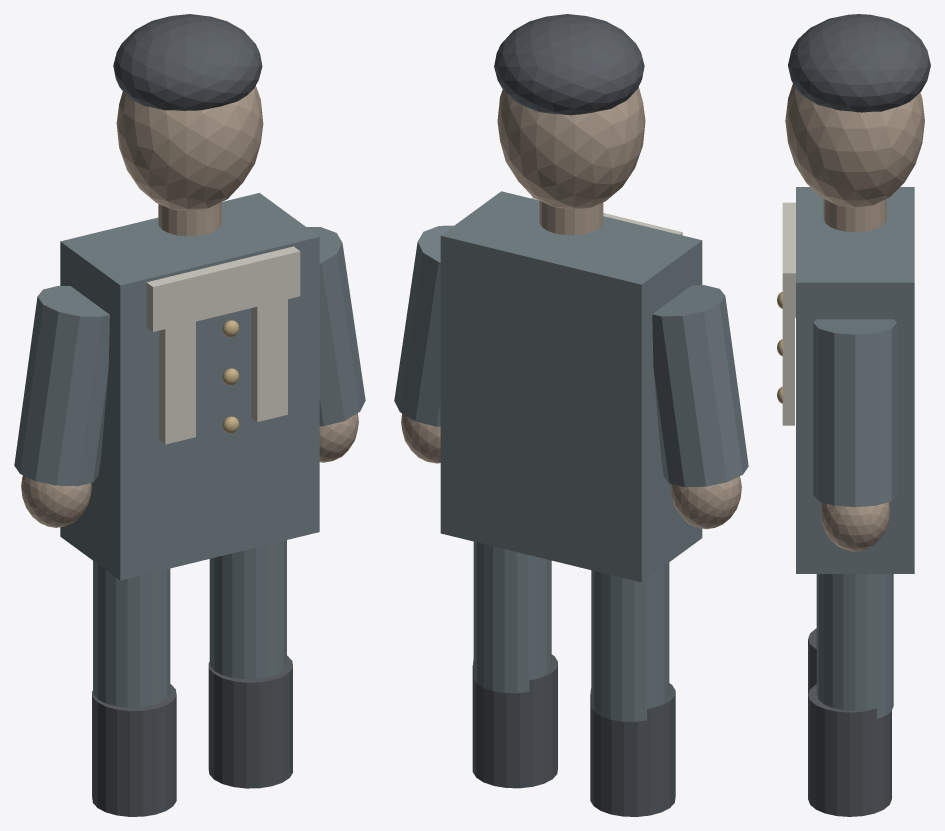
Rendered from medical-officer.glb.
The picture shows the model from 3 angles, left to right: view 1: azimuth 30°, elevation 25°; view 2: azimuth 150°, elevation 25°; view 3: azimuth 270°, elevation 25°; orthographic projection. The views are drawn at different scales.
Visible parts, largest first — view 1: torso, sleeve--0.36, head, hair, trouser--0.19, trouser-0.19, boot--0.19, boot-0.19, coat-collar, sleeve-0.36, coat-lapel, coat-lapel-left (+3 smaller); view 2: torso, sleeve--0.36, head, hair, trouser--0.19, trouser-0.19, boot--0.19, boot-0.19, sleeve-0.36, hand--0.36, neck, hand-0.36; view 3: torso, sleeve-0.36, head, hair, trouser-0.19, boot-0.19, hand-0.36, coat-collar, neck, coat-lapel, boot--0.19.
Part boxes in pixels (x1,y1,x2,y2): torso: [60, 193, 319, 580]; sleeve--0.36: [14, 286, 109, 486]; head: [116, 85, 263, 210]; hair: [113, 14, 262, 110]; trouser--0.19: [93, 561, 170, 707]; trouser-0.19: [209, 540, 286, 679]; boot--0.19: [92, 684, 176, 816]; boot-0.19: [208, 655, 292, 788]; coat-collar: [146, 246, 300, 331]; sleeve-0.36: [306, 227, 365, 426]; coat-lapel: [251, 293, 287, 421]; coat-lapel-left: [159, 315, 195, 444]; torso: [440, 191, 702, 582]; sleeve--0.36: [652, 285, 748, 487]; head: [497, 87, 645, 209]; hair: [494, 14, 644, 115]; trouser--0.19: [591, 562, 669, 721]; trouser-0.19: [473, 541, 551, 693]; boot--0.19: [590, 683, 675, 816]; boot-0.19: [472, 654, 557, 788]; sleeve-0.36: [394, 225, 453, 426]; hand--0.36: [670, 476, 741, 529]; neck: [539, 201, 603, 235]; hand-0.36: [401, 413, 440, 463]; torso: [796, 187, 914, 573]; sleeve-0.36: [813, 319, 896, 507]; head: [785, 84, 924, 207]; hair: [788, 14, 930, 112]; trouser-0.19: [816, 574, 893, 718]; boot-0.19: [808, 684, 891, 816]; hand-0.36: [820, 502, 889, 551]; coat-collar: [782, 202, 795, 317]; neck: [823, 199, 886, 232]; coat-lapel: [782, 317, 794, 425]; boot--0.19: [808, 628, 816, 694].
Bounding box in the file's own units: 1.11 × 2.36 × 0.441.
